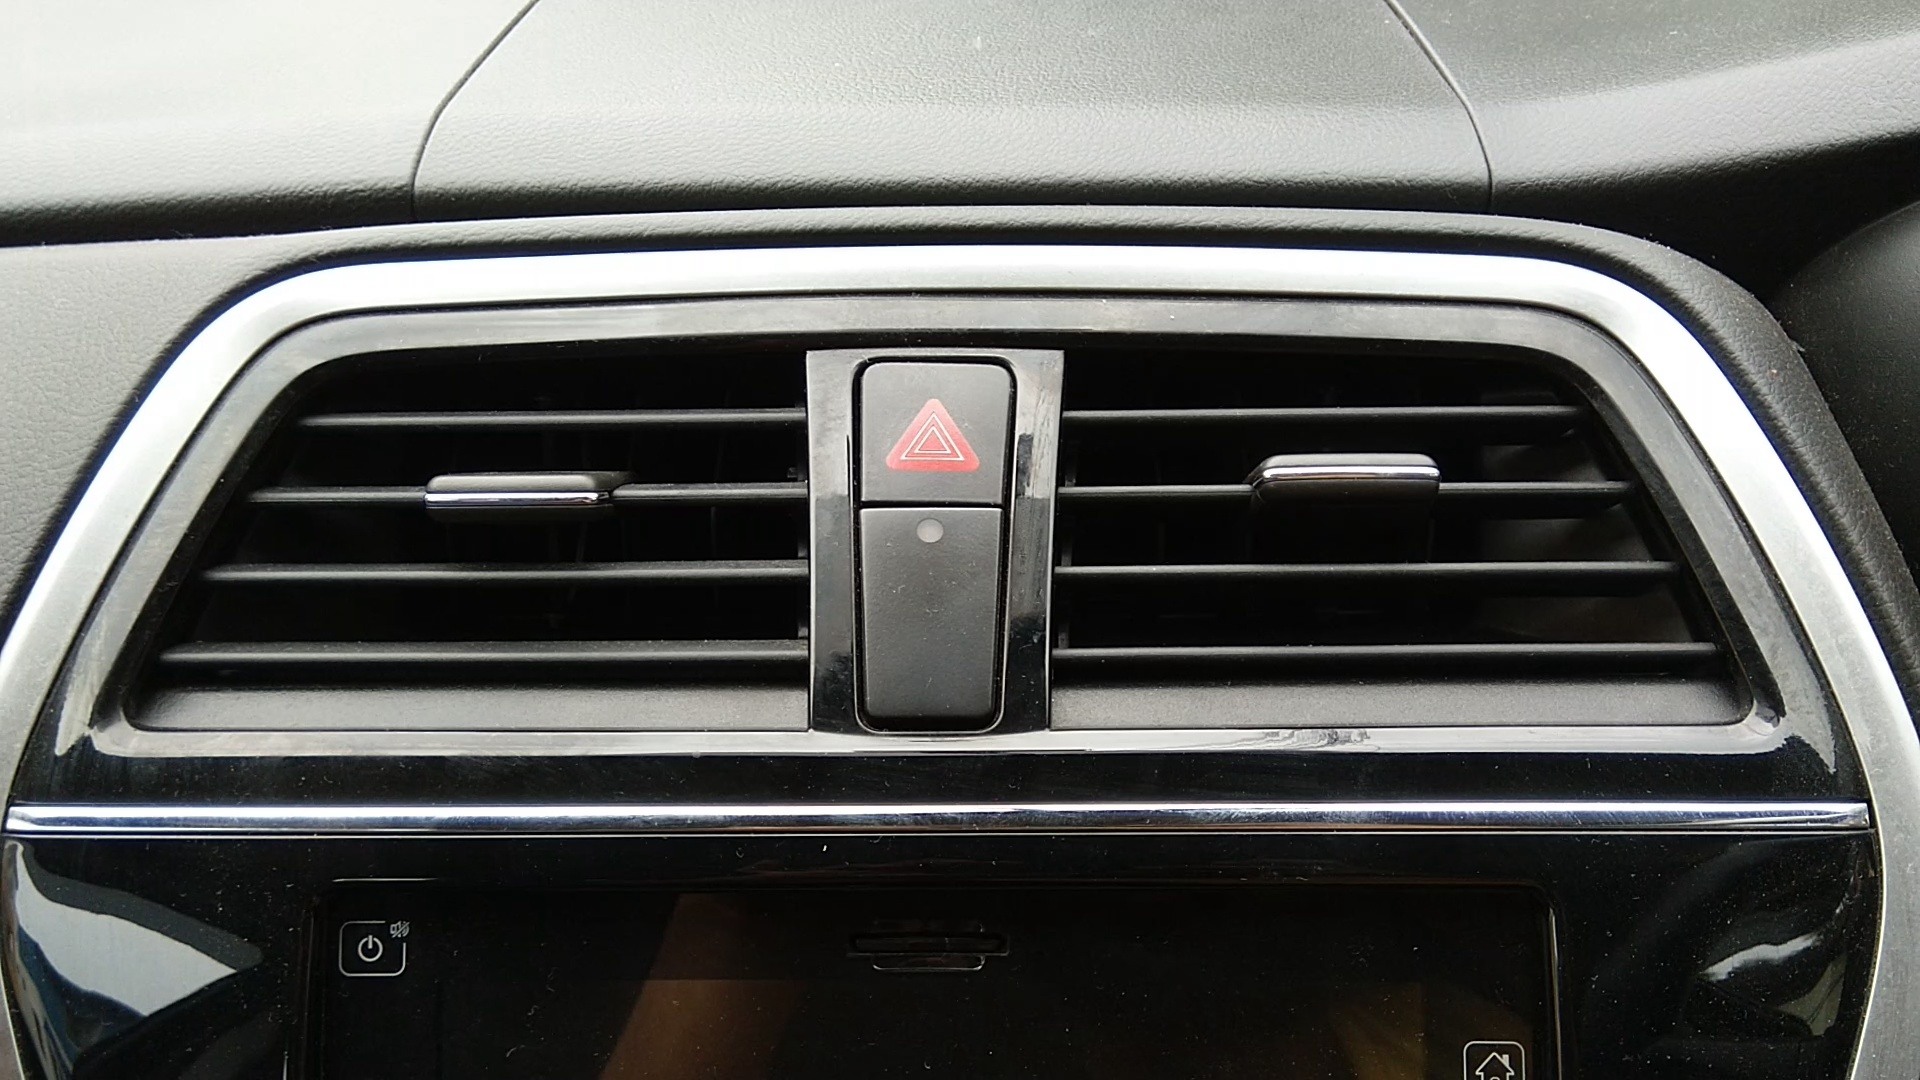parking_button: (880, 372, 992, 485)
